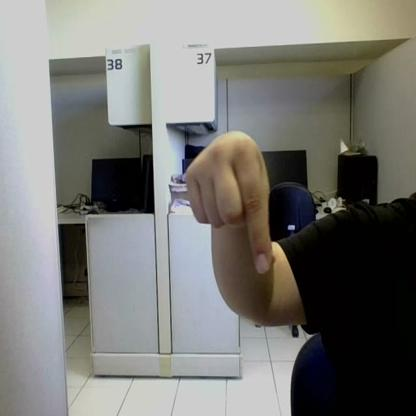Q: (187, 139, 269, 273)
